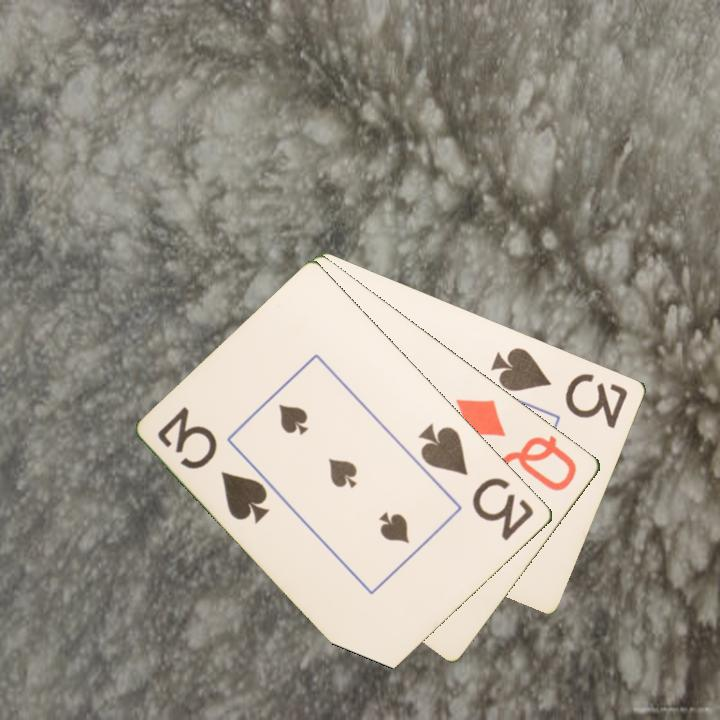3s: (414, 420, 538, 544), (154, 403, 274, 527), (487, 343, 632, 431)
Qd: (452, 395, 581, 495)
